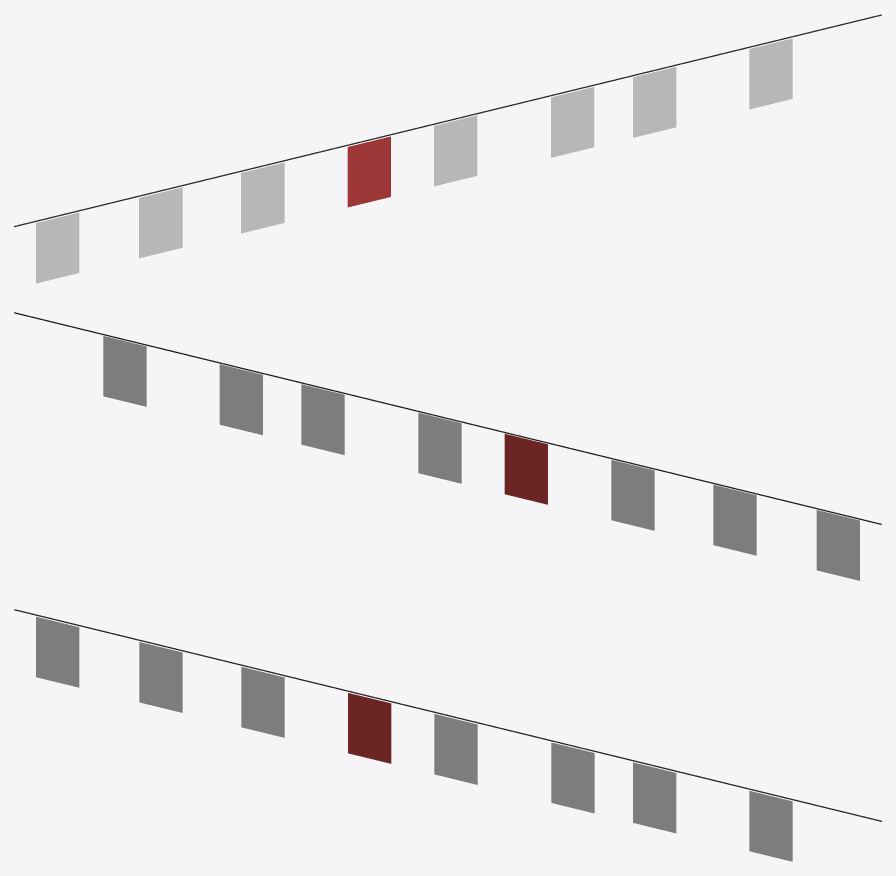
The model's file is Waesche_2.glb.
3 renders of one model, top to bottom at view 1: azimuth 30°, elevation 25°; view 2: azimuth 150°, elevation 25°; view 3: azimuth 330°, elevation 25°, orthographic.
Parts seen in each view (by area): view 1: Waesche_2; view 2: Waesche_2; view 3: Waesche_2.
Part boxes in pixels (left/top/right/bottom): Waesche_2: left=14, top=14, right=881, bottom=283; Waesche_2: left=14, top=312, right=881, bottom=580; Waesche_2: left=14, top=609, right=881, bottom=861.
Size of the model in its own units: 12 by 0.8287 by 0.015.
